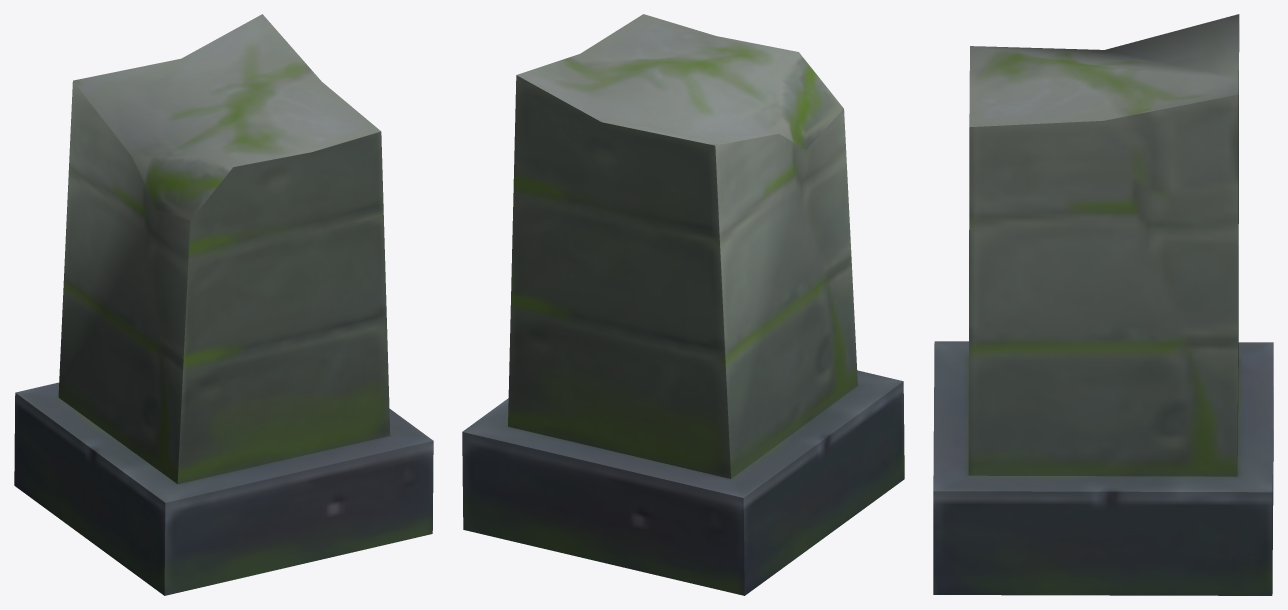
File: scene_shenmisenlin_strone02.FBX
3 views of the same model, side by side, from view 1: azimuth 30°, elevation 25°; view 2: azimuth 150°, elevation 25°; view 3: azimuth 270°, elevation 25° (orthographic). The views are drawn at different scales.
Visible parts, largest first — view 1: scene_shenmisenlin_strone02; view 2: scene_shenmisenlin_strone02; view 3: scene_shenmisenlin_strone02.
Part boxes in pixels (x1=…): scene_shenmisenlin_strone02: x1=14, y1=14, x2=433, y2=595; scene_shenmisenlin_strone02: x1=462, y1=14, x2=904, y2=595; scene_shenmisenlin_strone02: x1=933, y1=14, x2=1273, y2=595.
Size of the model in its own units: 57.31 by 87.24 by 55.86.
